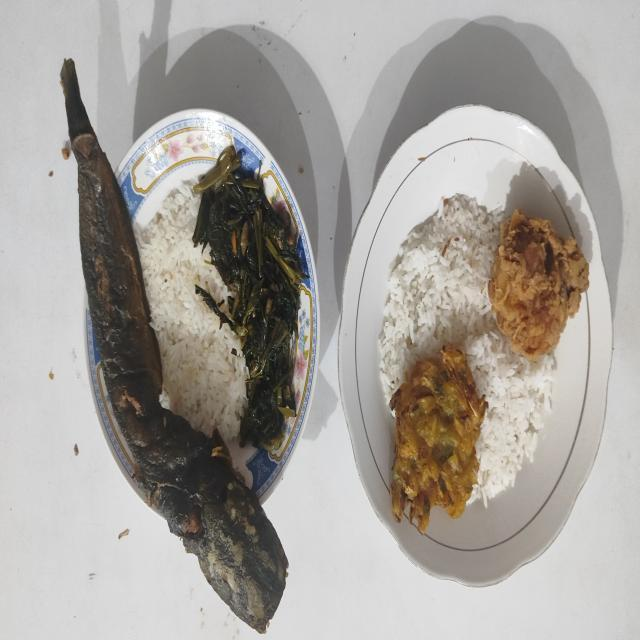nasi_putih: (378, 193, 556, 508), (133, 181, 248, 441)
tumis_kangkung: (192, 146, 310, 448)
